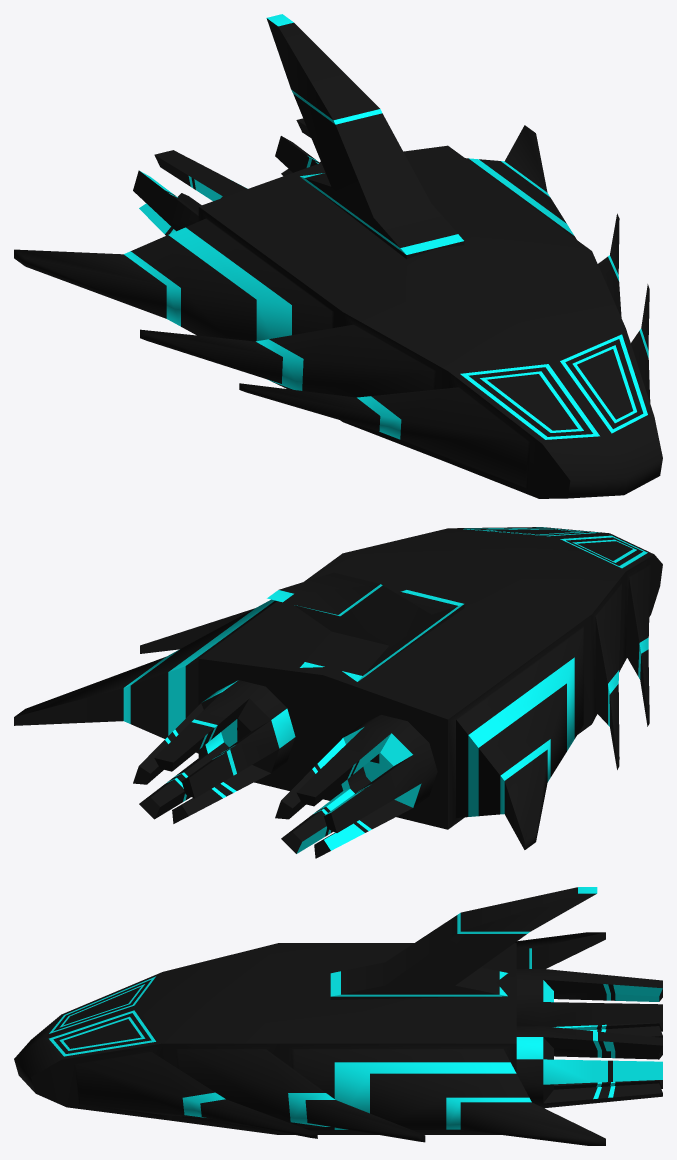
Rendered from Ship_5.fbx.
3 views of the same model, one above another, from view 1: azimuth 30°, elevation 25°; view 2: azimuth 150°, elevation 25°; view 3: azimuth 270°, elevation 25° (orthographic). The views are drawn at different scales.
Visible parts, largest first — view 1: ShipPart_Body_5; view 2: ShipPart_Body_5; view 3: ShipPart_Body_5.
Part boxes in pixels (<box>): ShipPart_Body_5: <box>14,14,662,498</box>; ShipPart_Body_5: <box>14,527,662,858</box>; ShipPart_Body_5: <box>14,887,662,1145</box>.
Bounding box in the file's own units: 1.35 × 0.5907 × 1.79.
